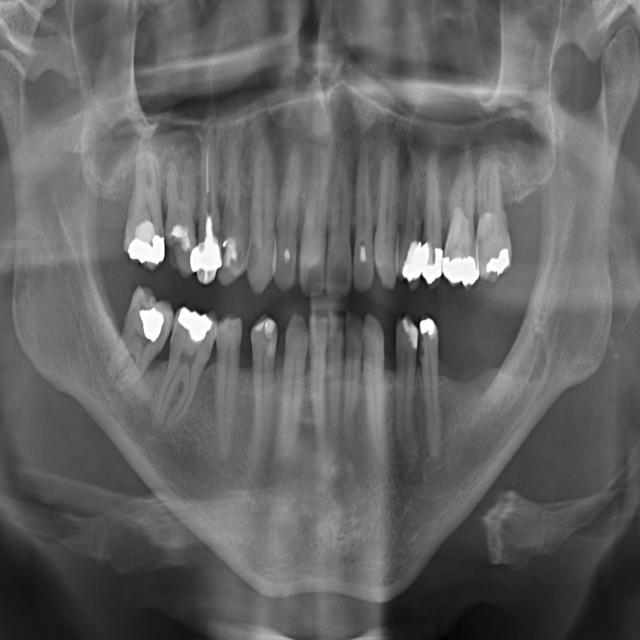AGS Medikal Implant: (352, 134, 377, 296)
AMerOss Implant: (374, 128, 400, 291)
Amalgam filling: (397, 156, 421, 294)
Anthogyr Implant: (422, 149, 442, 294)
Bicon Implant: (437, 138, 480, 295)
BioHorizons Implant: (468, 149, 517, 287)
Caries: (115, 129, 166, 276)
Composite filling: (417, 312, 445, 459)
Cowellmedi Implant: (394, 312, 419, 468)
Crown: (361, 308, 389, 468)
DENTSPLY Implant: (342, 306, 363, 447)
Dentatus Implant: (325, 307, 345, 436)
Dentis Implant: (308, 312, 329, 451)
Euroteknika Implant: (271, 309, 314, 472)
Filling: (245, 308, 282, 470)
Frontier Implant: (208, 309, 243, 466)
Hiossen Implant: (163, 149, 197, 283)
Implant: (94, 277, 185, 405)
Implant Direct: (147, 299, 222, 443)
MIS Implant: (195, 108, 225, 288)
Mandible: (218, 126, 254, 290)
Maxilla: (245, 103, 280, 300)
Megagen Implant: (272, 128, 304, 294)
Neodent Implant: (297, 98, 335, 298)
Neoss Implant: (325, 126, 354, 301)
